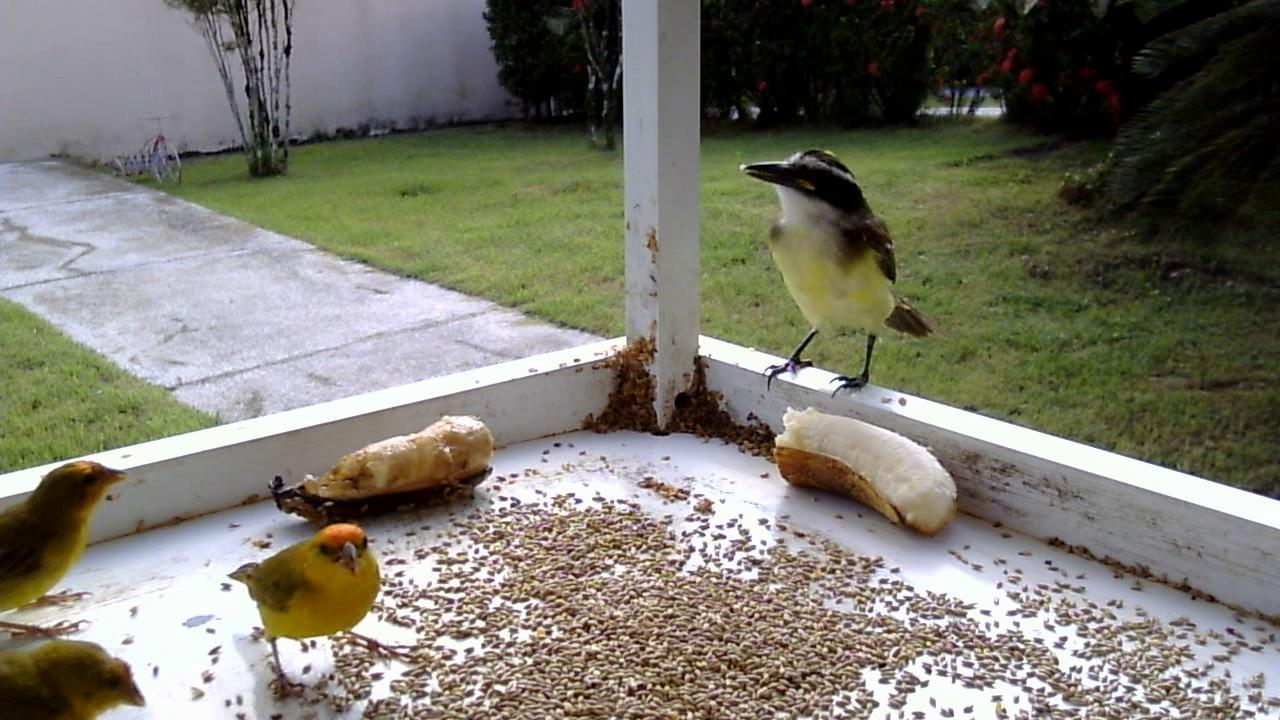bem_te_vi: (736, 143, 936, 412)
canario_do_amazonas: (211, 518, 422, 693), (1, 455, 145, 647), (3, 634, 149, 716)
